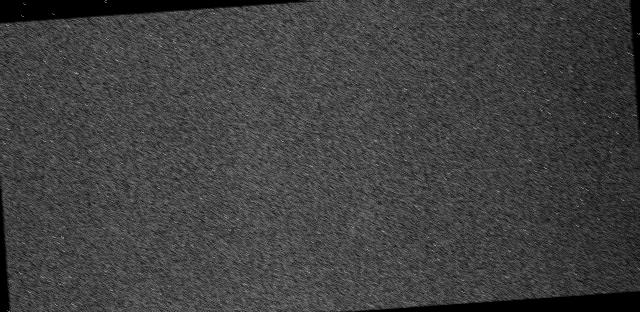silk_spot: (1, 16, 266, 312)
